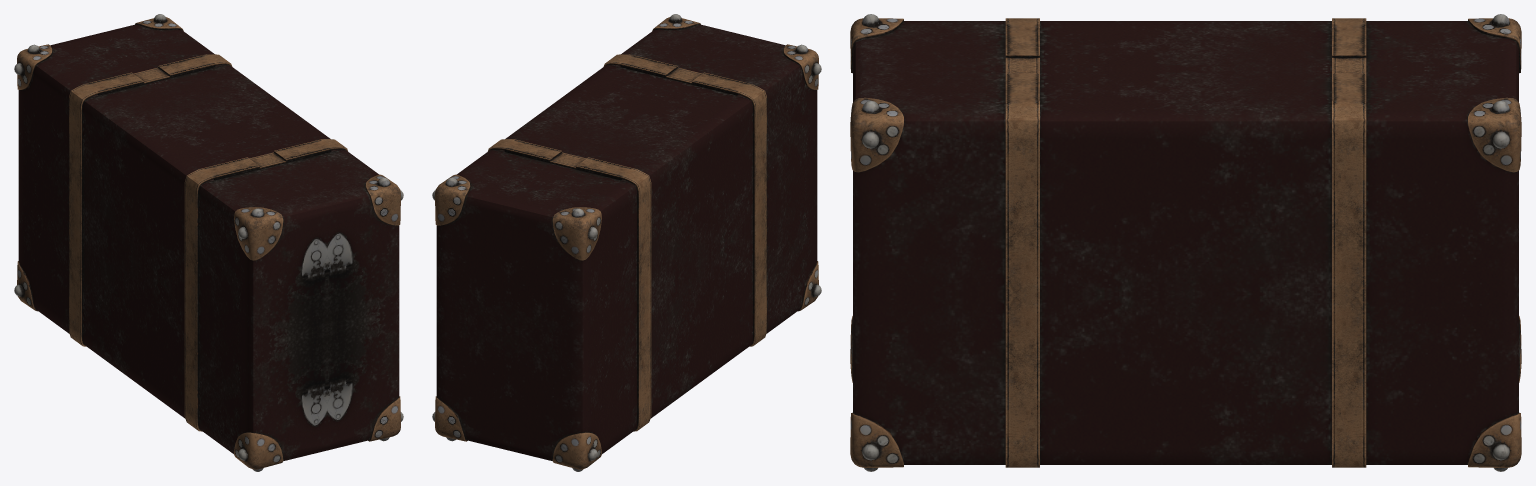
The model's file is SM_TravelCase_SealedLong.fbx.
The picture shows the model from 3 angles, left to right: view 1: azimuth 30°, elevation 25°; view 2: azimuth 150°, elevation 25°; view 3: azimuth 270°, elevation 25°; orthographic projection. The views are drawn at different scales.
Parts seen in each view (by area): view 1: SM_TravelCase_SealedLong_LOD0; view 2: SM_TravelCase_SealedLong_LOD0; view 3: SM_TravelCase_SealedLong_LOD0.
Part boxes in pixels (left/top/right/bottom): SM_TravelCase_SealedLong_LOD0: left=14, top=14, right=403, bottom=471; SM_TravelCase_SealedLong_LOD0: left=432, top=14, right=821, bottom=471; SM_TravelCase_SealedLong_LOD0: left=850, top=14, right=1521, bottom=471.
Size of the model in its own units: 64.94 by 164 by 99.36.
1 material, 1 textured.
